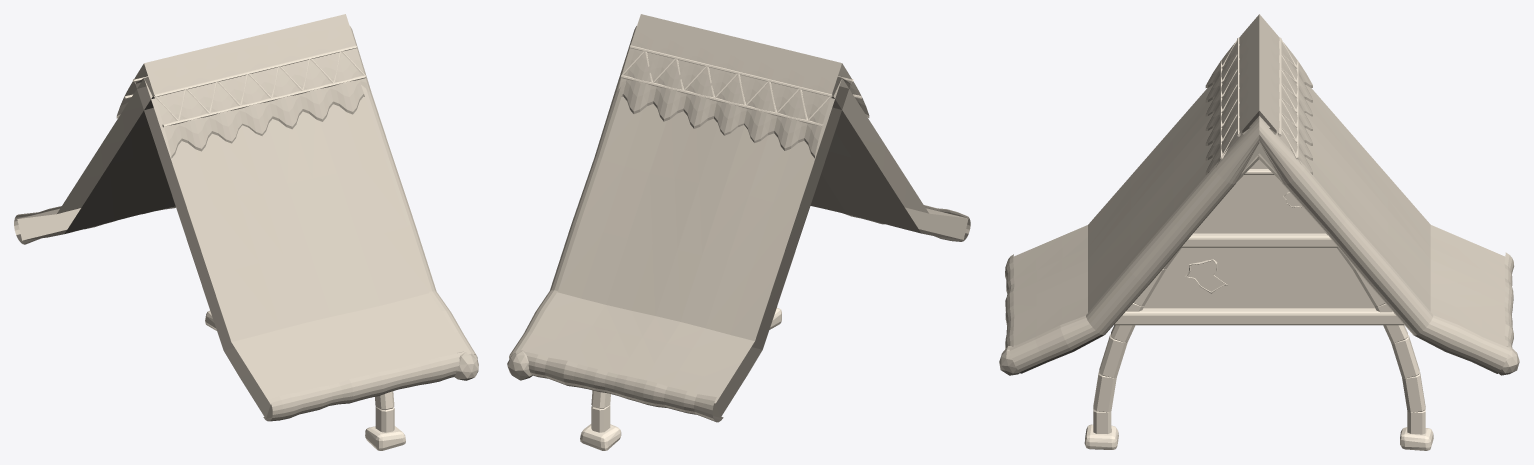
File: SM_VK_RoofThatch_Gable_Cruck.fbx
3 renders of one model, left to right at view 1: azimuth 30°, elevation 25°; view 2: azimuth 150°, elevation 25°; view 3: azimuth 270°, elevation 25°, orthographic.
Visible parts, largest first — view 1: SM_VK_RoofThatch_Gable_Cruck.001; view 2: SM_VK_RoofThatch_Gable_Cruck.001; view 3: SM_VK_RoofThatch_Gable_Cruck.001.
Boxes of the visible parts, box(x1,y1,x2,y2) form: SM_VK_RoofThatch_Gable_Cruck.001: box(14, 14, 478, 450); SM_VK_RoofThatch_Gable_Cruck.001: box(507, 14, 970, 450); SM_VK_RoofThatch_Gable_Cruck.001: box(999, 14, 1519, 450).
Bounding box in the file's own units: 4.18 × 6.87 × 9.11.
